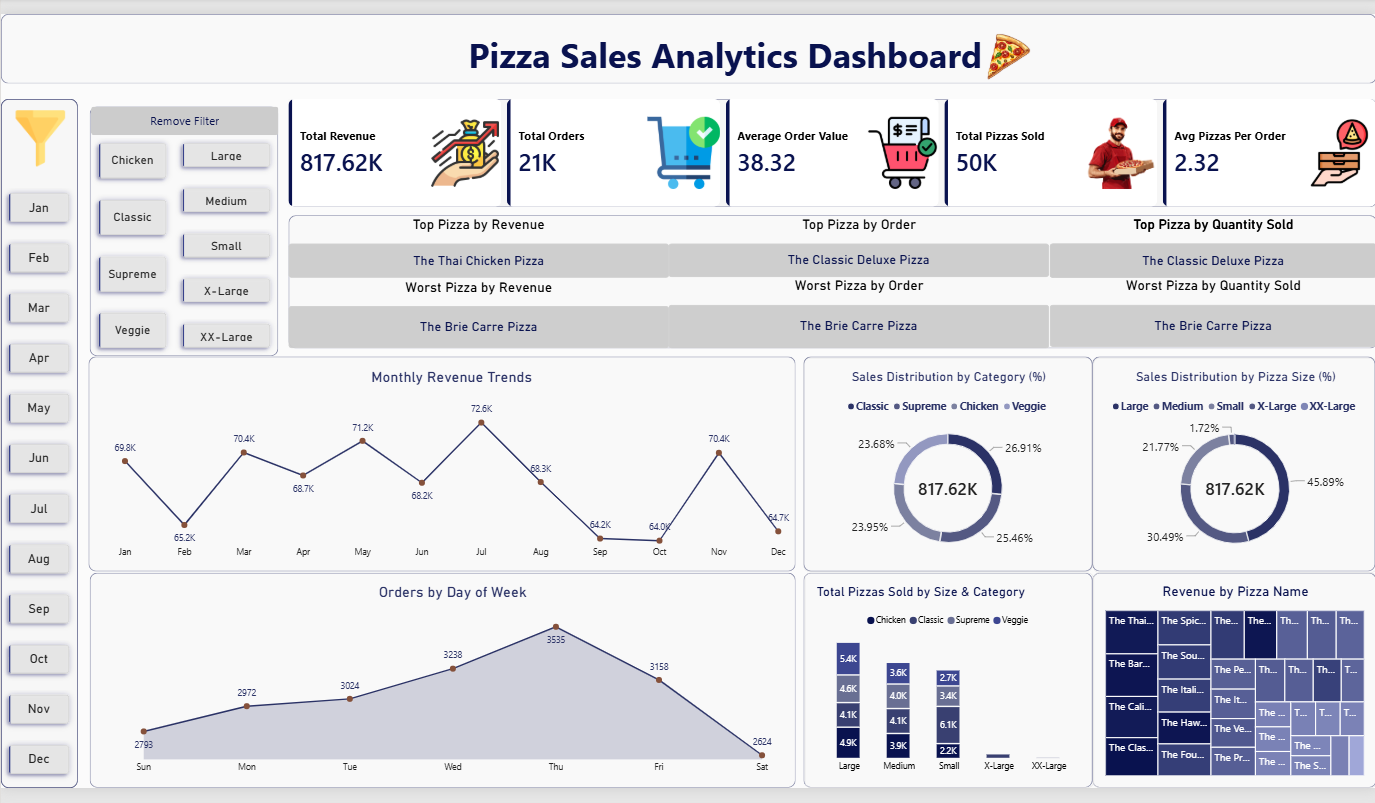

The dashboard page shown, as its layout file describes it:
{"tool":"powerbi","page":{"name":"Page 1","canvas":[1920,1080],"ordinal":0},"visuals":[{"type":"shape","box":[400.3,281.4,1519.2,185.9],"z":0},{"type":"lineChart","title":"Monthly Revenue Trends","fields":{"Category":["pizza_sales.Month name"],"Y":["pizza_sales.Total Revenue"]},"box":[123.8,479.7,1009.9,300],"z":1000},{"type":"lineChart","title":"Orders by Day of Week","fields":{"Category":["pizza_sales.Day name"],"Y":["pizza_sales.Total Orders"]},"box":[125,780,1009.9,300],"z":2000},{"type":"donutChart","title":"Sales Distribution by Category (%)","fields":{"Category":["pizza_sales.pizza_category"],"Y":["pizza_sales.Total Revenue"]},"box":[1120,480,403.3,298.3],"z":3000},{"type":"donutChart","title":"Sales Distribution by Pizza Size (%)","fields":{"Category":["pizza_sales.pizza_size"],"Y":["pizza_sales.Total Revenue"]},"box":[1525,480,395,300],"z":4000},{"type":"shape","box":[0,0,1919.5,97.1],"z":5000},{"type":"shape","box":[0,118.9,107.2,961.4],"z":6000},{"type":"shape","box":[0,118.6,107.2,961.4],"z":7000},{"type":"shape","box":[123.8,129.1,263,348.4],"z":8000},{"type":"shape","box":[122.1,477.9,986.7,300],"z":9000},{"type":"shape","box":[400.3,118.9,1519.2,150.7],"z":10000},{"type":"shape","box":[124,780,985,300],"z":11000},{"type":"shape","box":[1120,478.3,403.3,300],"z":12000},{"type":"shape","box":[1523.3,478.3,395,300],"z":13000},{"type":"shape","box":[1120,780,403.3,300],"z":14000},{"type":"shape","box":[1523.3,780,396.7,300],"z":15000},{"type":"cardVisual","fields":{"Data":["public pizza_sales.Total Revenue","public pizza_sales.Total Orders","public pizza_sales.Average Order Value","public pizza_sales.Total Pizzas Sold","public pizza_sales.Average Pizzas Per Order"]},"box":[400.3,118.9,1519.2,150.7],"z":16000},{"type":"columnChart","title":"Total Pizzas Sold by Size & Category","fields":{"Category":["pizza_sales.pizza_size"],"Series":["pizza_sales.pizza_category"],"Y":["pizza_sales.Total Pizzas Sold"]},"box":[1121.7,780,403.3,300],"z":17000},{"type":"treemap","title":"Revenue by Pizza Name","fields":{"Group":["pizza_sales.pizza_name"],"Values":["pizza_sales.Total Revenue"]},"box":[1525,780,395,300],"z":18000},{"type":"advancedSlicerVisual","title":"Worst Pizza by Revenue","fields":{"Values":["pizza_sales.pizza_name"]},"box":[401.4,370.5,531,96.7],"z":19000},{"type":"advancedSlicerVisual","title":"Top Pizza by Revenue","fields":{"Values":["pizza_sales.pizza_name"]},"box":[401.4,282,531,86.4],"z":20000},{"type":"advancedSlicerVisual","title":"Top Pizza by Order","fields":{"Values":["pizza_sales.pizza_name"]},"box":[931.4,282.6,532,85.5],"z":20001},{"type":"advancedSlicerVisual","title":"Worst Pizza by Order","fields":{"Values":["pizza_sales.pizza_name"]},"box":[931.4,368,532,99.4],"z":20002},{"type":"advancedSlicerVisual","title":"Top Pizza by Quantity Sold","fields":{"Values":["pizza_sales.pizza_name"]},"box":[1463.5,282,456.9,86.4],"z":20003},{"type":"advancedSlicerVisual","title":"Top Pizza by Quantity Sold","fields":{"Values":["pizza_sales.pizza_name"]},"box":[1463.1,282,456.9,86.4],"z":20004},{"type":"advancedSlicerVisual","title":"Worst Pizza by Quantity Sold","fields":{"Values":["pizza_sales.pizza_name"]},"box":[1463.5,368.4,456.9,96.7],"z":20005},{"type":"advancedSlicerVisual","fields":{"Values":["pizza_sales.Month name"]},"box":[0,239,106.4,840.7],"z":20006},{"type":"advancedSlicerVisual","fields":{"Values":["pizza_sales.pizza_category"]},"box":[125.6,169.2,116.9,308.7],"z":20007},{"type":"advancedSlicerVisual","fields":{"Values":["pizza_sales.pizza_size"]},"box":[242.4,169.2,144.8,308.7],"z":20008},{"type":"actionButton","box":[125.6,129.1,261.6,40.1],"z":20009},{"type":"image","box":[1.7,134.3,106.4,78.5],"z":20010},{"type":"textbox","box":[1.7,22.7,1915.1,75],"z":20011},{"type":"image","box":[1133.7,22.7,540.7,75],"z":20012}]}

Visuals, with their boxes on the page's 1920x1080 design canvas (x1, y1, x2, y2). These are canvas units, not pixel positions in the 1375x803 screenshot, which may show the page scaled, cropped or inside an application window:
shape: 400:281:1920:467
"Monthly Revenue Trends" lineChart: 124:480:1134:780
"Orders by Day of Week" lineChart: 125:780:1135:1080
"Sales Distribution by Category (%)" donutChart: 1120:480:1523:778
"Sales Distribution by Pizza Size (%)" donutChart: 1525:480:1920:780
shape: 0:0:1920:97
shape: 0:119:107:1080
shape: 0:119:107:1080
shape: 124:129:387:478
shape: 122:478:1109:778
shape: 400:119:1920:270
shape: 124:780:1109:1080
shape: 1120:478:1523:778
shape: 1523:478:1918:778
shape: 1120:780:1523:1080
shape: 1523:780:1920:1080
cardVisual - public pizza_sales.Total Revenue x public pizza_sales.Total Orders: 400:119:1920:270
"Total Pizzas Sold by Size & Category" columnChart: 1122:780:1525:1080
"Revenue by Pizza Name" treemap: 1525:780:1920:1080
"Worst Pizza by Revenue" advancedSlicerVisual: 401:370:932:467
"Top Pizza by Revenue" advancedSlicerVisual: 401:282:932:368
"Top Pizza by Order" advancedSlicerVisual: 931:283:1463:368
"Worst Pizza by Order" advancedSlicerVisual: 931:368:1463:467
"Top Pizza by Quantity Sold" advancedSlicerVisual: 1464:282:1920:368
"Top Pizza by Quantity Sold" advancedSlicerVisual: 1463:282:1920:368
"Worst Pizza by Quantity Sold" advancedSlicerVisual: 1464:368:1920:465
advancedSlicerVisual - pizza_sales.Month name: 0:239:106:1080
advancedSlicerVisual - pizza_sales.pizza_category: 126:169:242:478
advancedSlicerVisual - pizza_sales.pizza_size: 242:169:387:478
actionButton: 126:129:387:169
image: 2:134:108:213
textbox: 2:23:1917:98
image: 1134:23:1674:98
